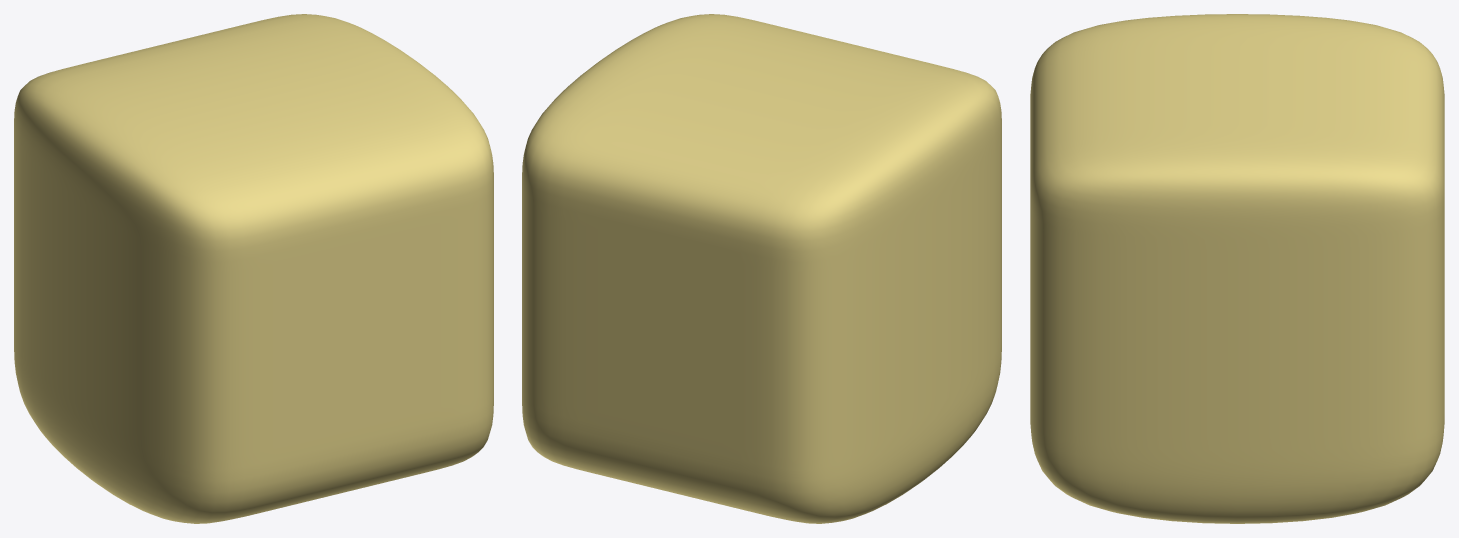
Rendered from suger.fbx.
The picture shows the model from 3 angles, left to right: view 1: azimuth 30°, elevation 25°; view 2: azimuth 150°, elevation 25°; view 3: azimuth 270°, elevation 25°; orthographic projection.
Parts seen in each view (by area): view 1: Cube; view 2: Cube; view 3: Cube.
Part boxes in pixels (x1=…): Cube: x1=14, y1=14, x2=493, y2=523; Cube: x1=522, y1=14, x2=1001, y2=523; Cube: x1=1030, y1=14, x2=1444, y2=523.
Size of the model in its own units: 196 by 197 by 200.
